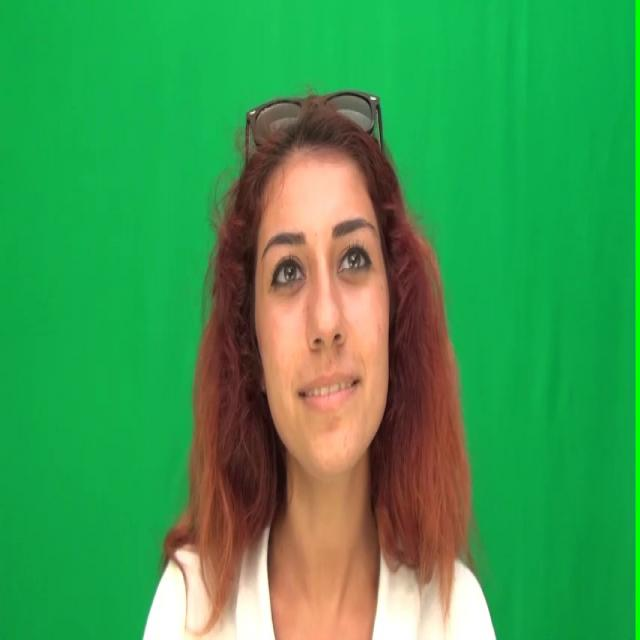Engaged: (255, 144, 388, 473)
